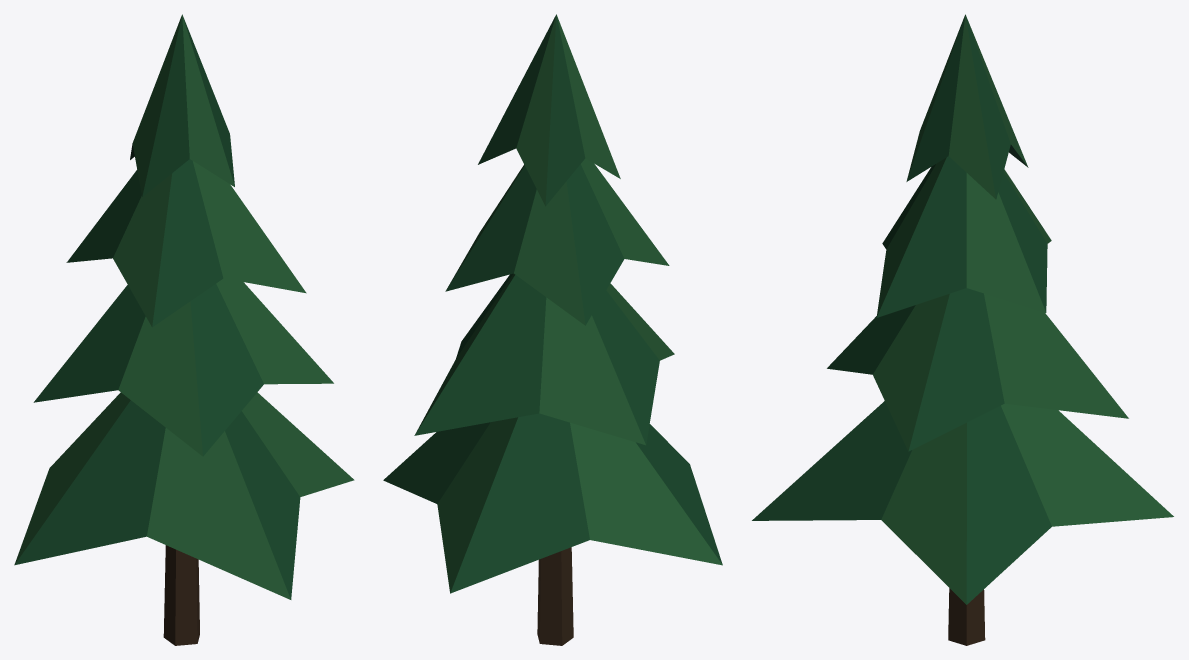
File: tree-pine.glb
The picture shows the model from 3 angles, left to right: view 1: azimuth 30°, elevation 25°; view 2: azimuth 150°, elevation 25°; view 3: azimuth 270°, elevation 25°; orthographic projection.
Visible parts, largest first — view 1: tree-pine; view 2: tree-pine; view 3: tree-pine.
Boxes of the visible parts, box(x1,y1,x2,y2) form: tree-pine: box(14, 14, 354, 645); tree-pine: box(383, 14, 722, 645); tree-pine: box(752, 14, 1173, 645).
Size of the model in its own units: 3.42 by 6 by 3.69.
